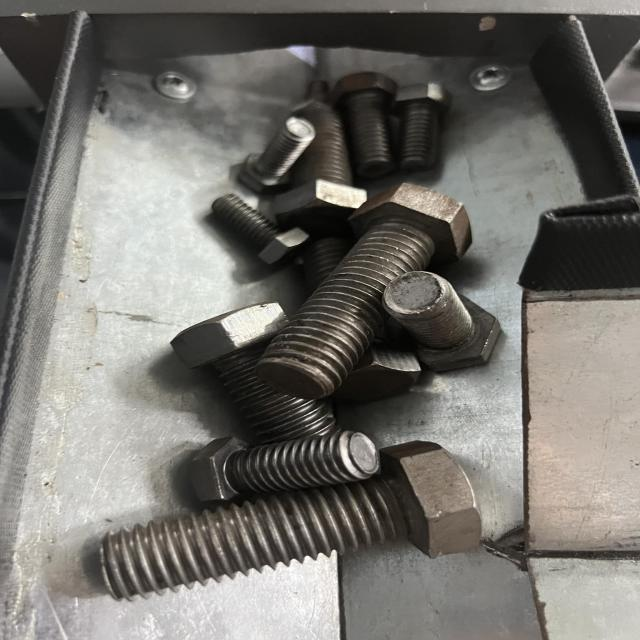bolt: (100, 440, 483, 602), (255, 181, 472, 397)
